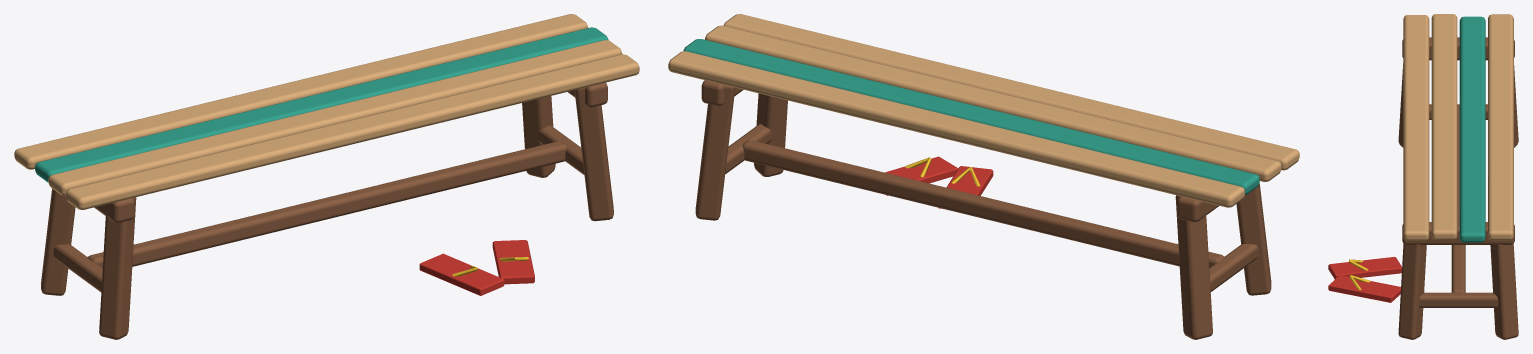
Rendered from prop_bench_wood.glb.
The picture shows the model from 3 angles, left to right: view 1: azimuth 30°, elevation 25°; view 2: azimuth 150°, elevation 25°; view 3: azimuth 270°, elevation 25°; orthographic projection. The views are drawn at different scales.
Parts seen in each view (by area): view 1: prop_bench_wood; view 2: prop_bench_wood; view 3: prop_bench_wood.
Part boxes in pixels (x1,y1,x2,y2): prop_bench_wood: (14, 14, 639, 339); prop_bench_wood: (668, 14, 1299, 339); prop_bench_wood: (1328, 14, 1518, 339).
Size of the model in its own units: 1.85 by 0.4711 by 0.6758.
